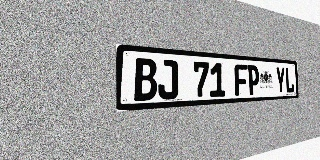1: (210, 62, 225, 97)
7: (192, 61, 210, 98)
B: (134, 58, 157, 101)
F: (234, 64, 248, 96)
J: (158, 59, 178, 100)
L: (285, 67, 294, 93)
P: (247, 65, 260, 95)
Y: (276, 67, 285, 94)
